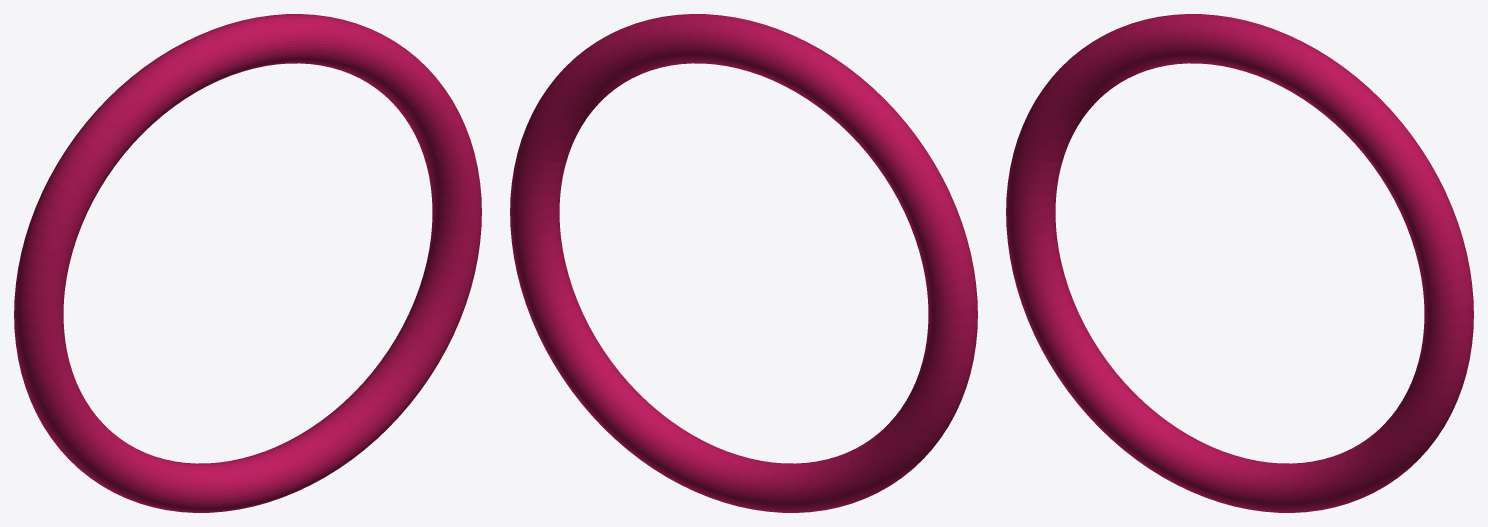
3 renders of one model, left to right at view 1: azimuth 30°, elevation 25°; view 2: azimuth 150°, elevation 25°; view 3: azimuth 330°, elevation 25°, orthographic.
Parts seen in each view (by area): view 1: world; view 2: world; view 3: world.
Part boxes in pixels (bbox=[...]): world: bbox=[14, 14, 481, 512]; world: bbox=[510, 14, 977, 512]; world: bbox=[1006, 14, 1473, 512].
Size of the model in its own units: 30.13 by 30.13 by 2.79.
